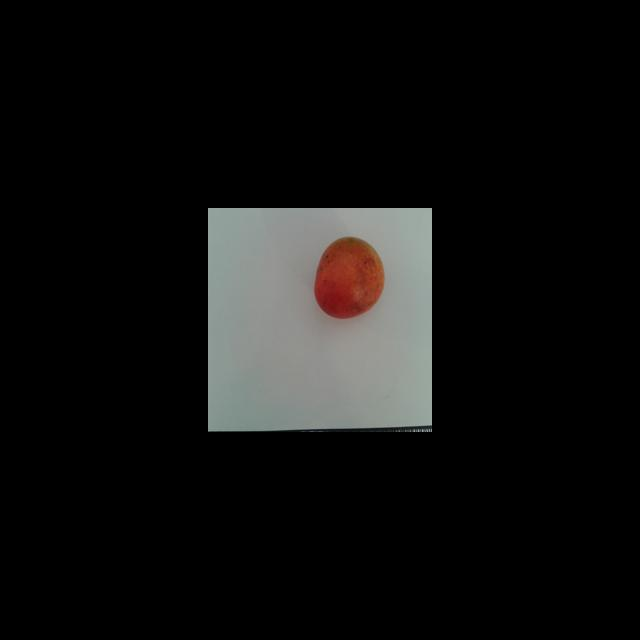Mango: (313, 235, 384, 319)
